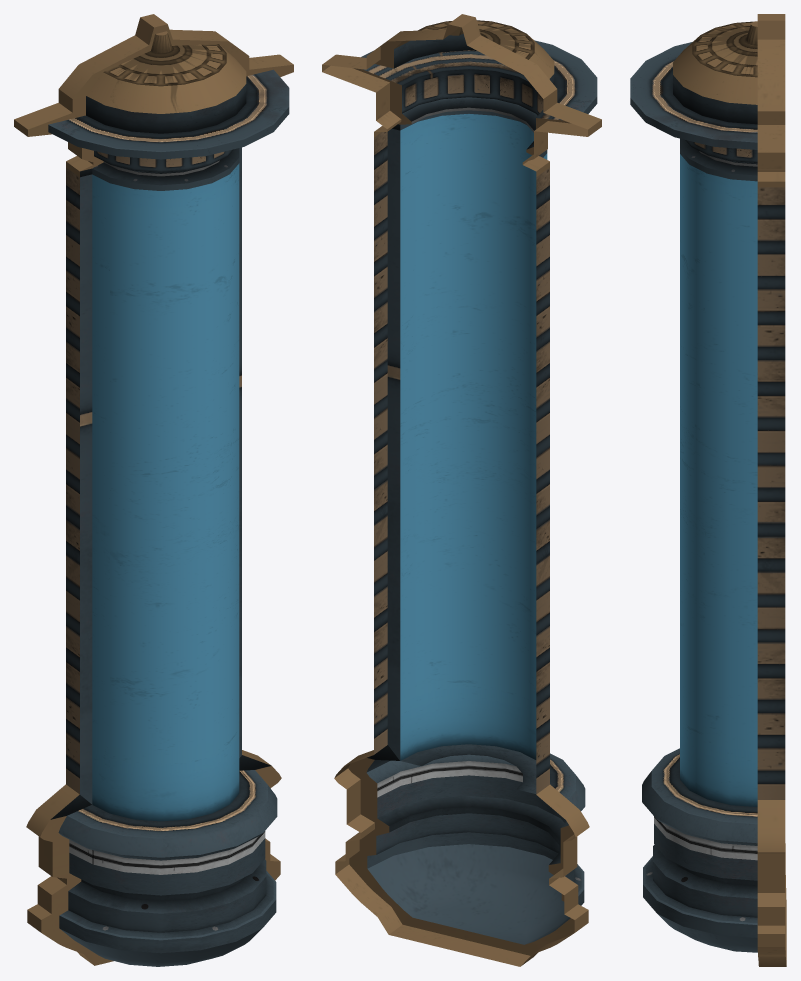
Rendered from Electric Tube Glowing Wall Mounted 2.fbx.
3 views of the same model, side by side, from view 1: azimuth 30°, elevation 25°; view 2: azimuth 150°, elevation 25°; view 3: azimuth 270°, elevation 25° (orthographic).
Visible parts, largest first — view 1: Cylinder; view 2: Cylinder; view 3: Cylinder.
Part boxes in pixels (x1,y1,x2,y2): Cylinder: (14, 14, 293, 966); Cylinder: (322, 14, 601, 966); Cylinder: (630, 14, 786, 966).
Size of the model in its own units: 72.39 by 240 by 37.08.
